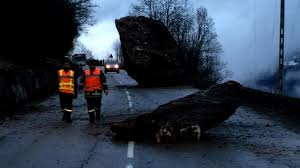car: (104, 58, 120, 79)
obstacle: (123, 76, 251, 153), (113, 14, 198, 87)
person: (82, 59, 110, 124), (55, 59, 76, 125)
